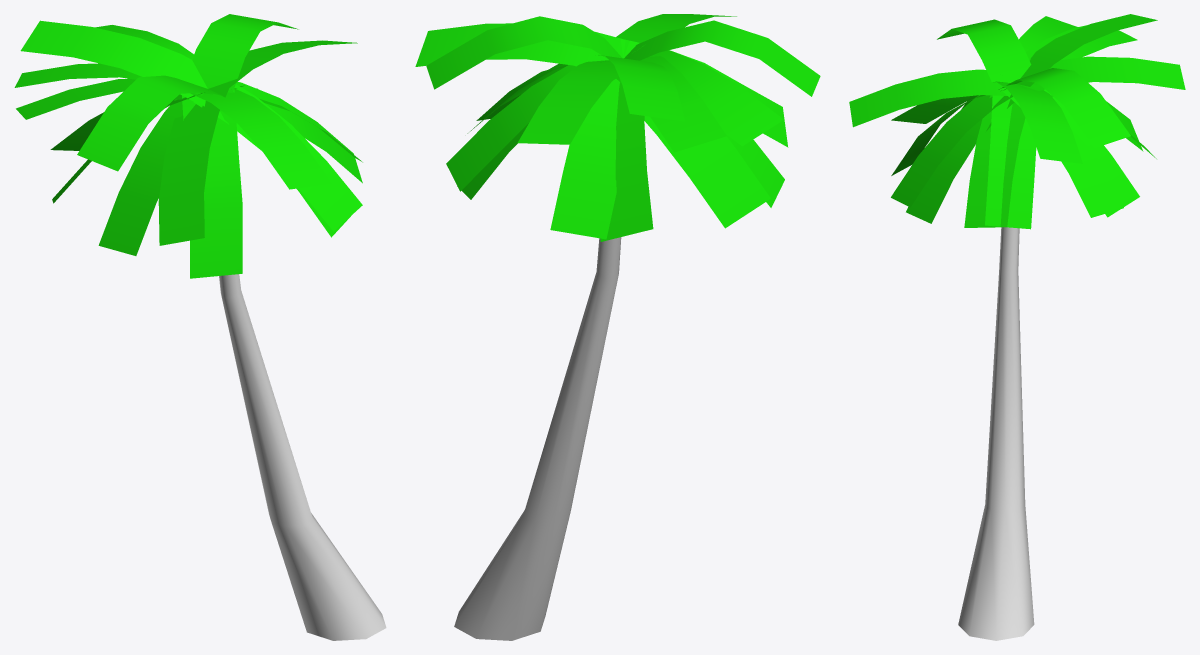
The model's file is Palmtree1.fbx.
The picture shows the model from 3 angles, left to right: view 1: azimuth 30°, elevation 25°; view 2: azimuth 150°, elevation 25°; view 3: azimuth 270°, elevation 25°; orthographic projection. The views are drawn at different scales.
Visible parts, largest first — view 1: PalmTree1; view 2: PalmTree1; view 3: PalmTree1.
Part boxes in pixels (x1,y1,x2,y2): PalmTree1: (14, 14, 386, 640); PalmTree1: (415, 14, 820, 640); PalmTree1: (849, 14, 1185, 640).
Bounding box in the file's own units: 171 × 291 × 171.
